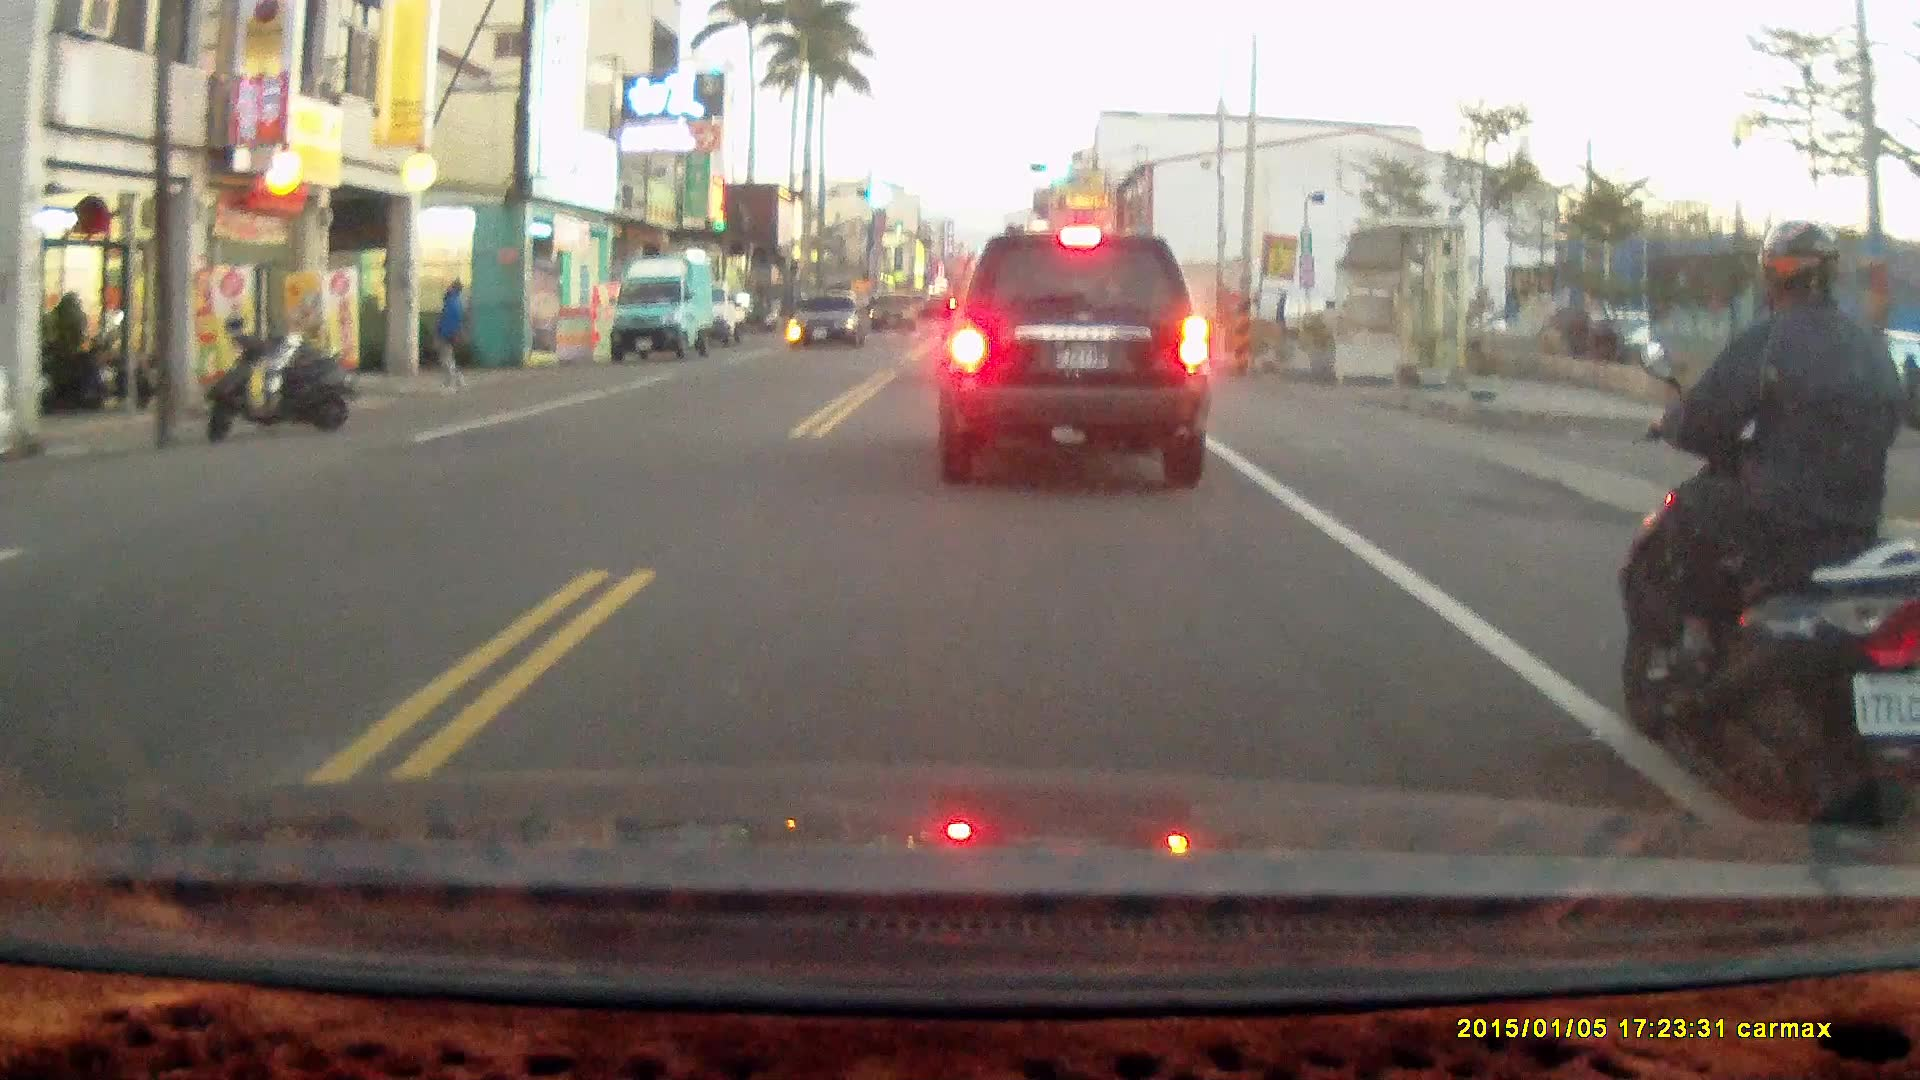pedestrian: (436, 277, 470, 396)
rider: (1618, 216, 1920, 842)
vehicle: (933, 228, 1216, 482), (606, 255, 719, 366), (790, 293, 875, 350), (1, 366, 21, 503), (869, 292, 920, 333)
